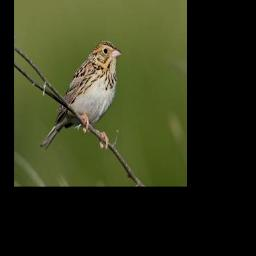Sparrow: (39, 39, 121, 149)
